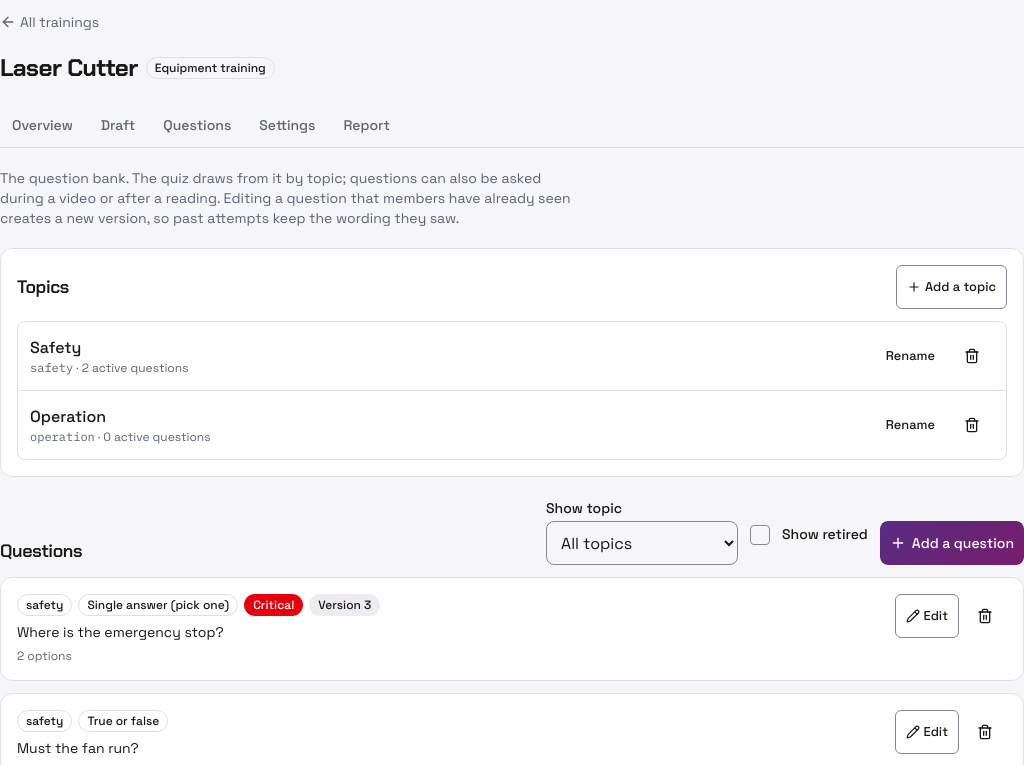
it: QuestionsManager › shows why a question could not be deleted
The image size is (1024, 765).
Expected: the heading "Laser Cutter" is shown, x1=0 y1=52 x2=138 y2=84
Expected: the text "Where is the emergency stop?" is shown, x1=17 y1=623 x2=224 y2=641
Click the button named "delete question: must the fan run". click: x=985, y=732
box: x1=963 y1=710 x2=1007 y2=754
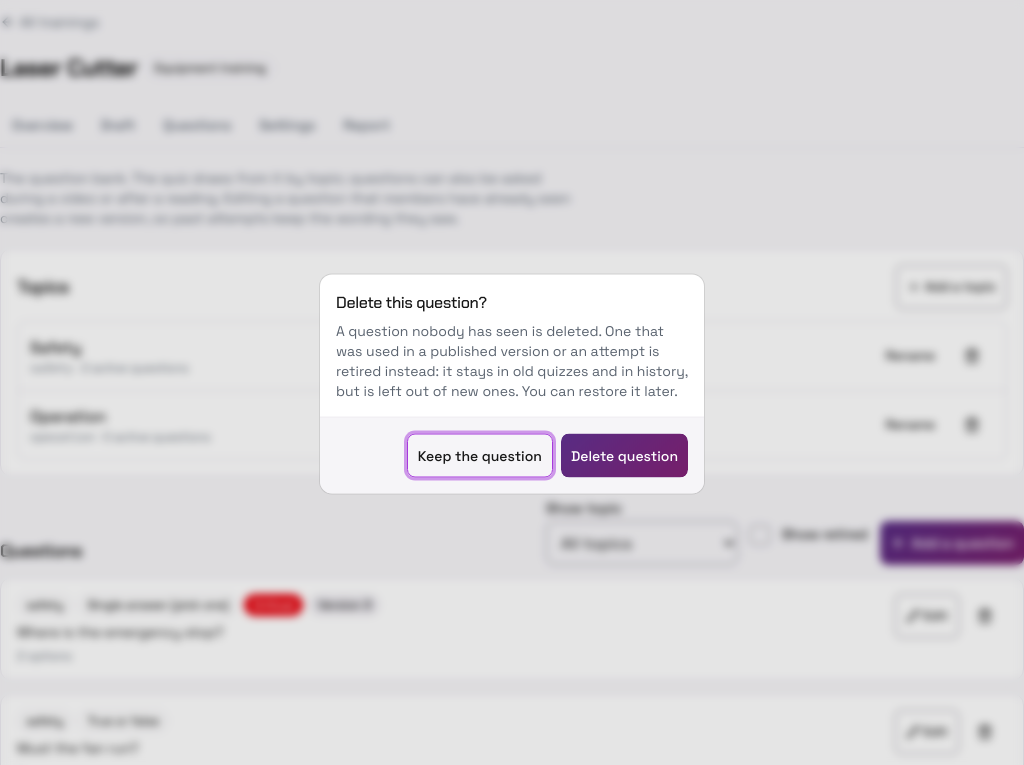
Click the button "Delete question". click: x=624, y=456
box: x1=561 y1=434 x2=688 y2=478
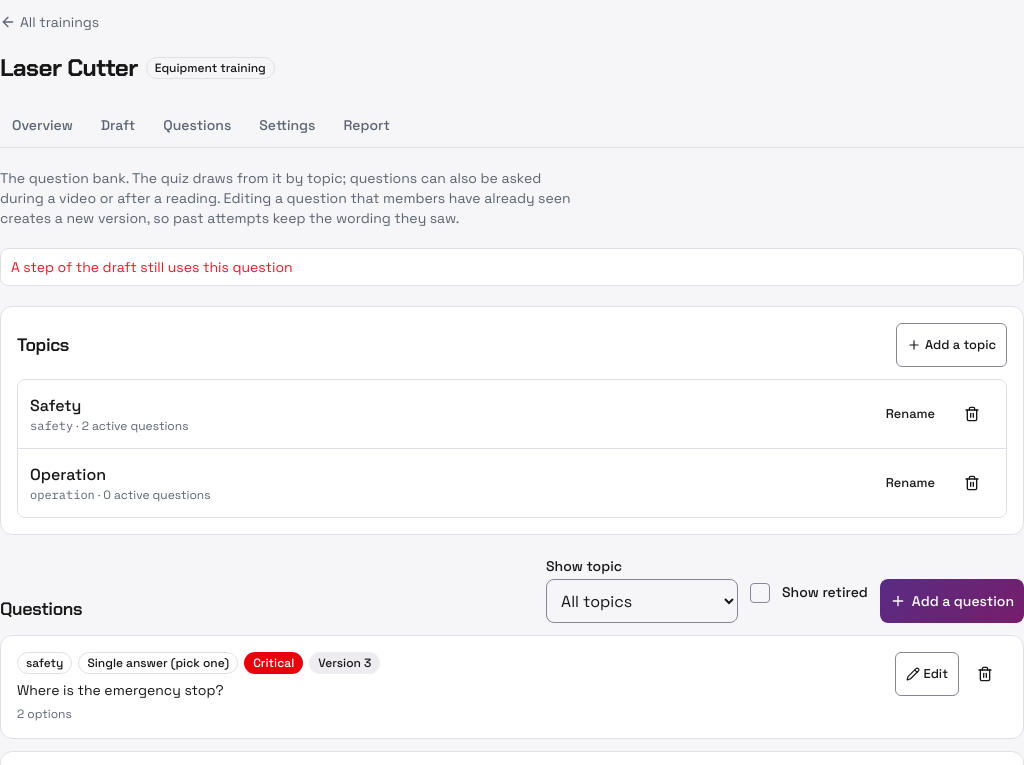
Expected: the text "A step of the draft still uses this question" is shown, x1=11 y1=258 x2=293 y2=276
